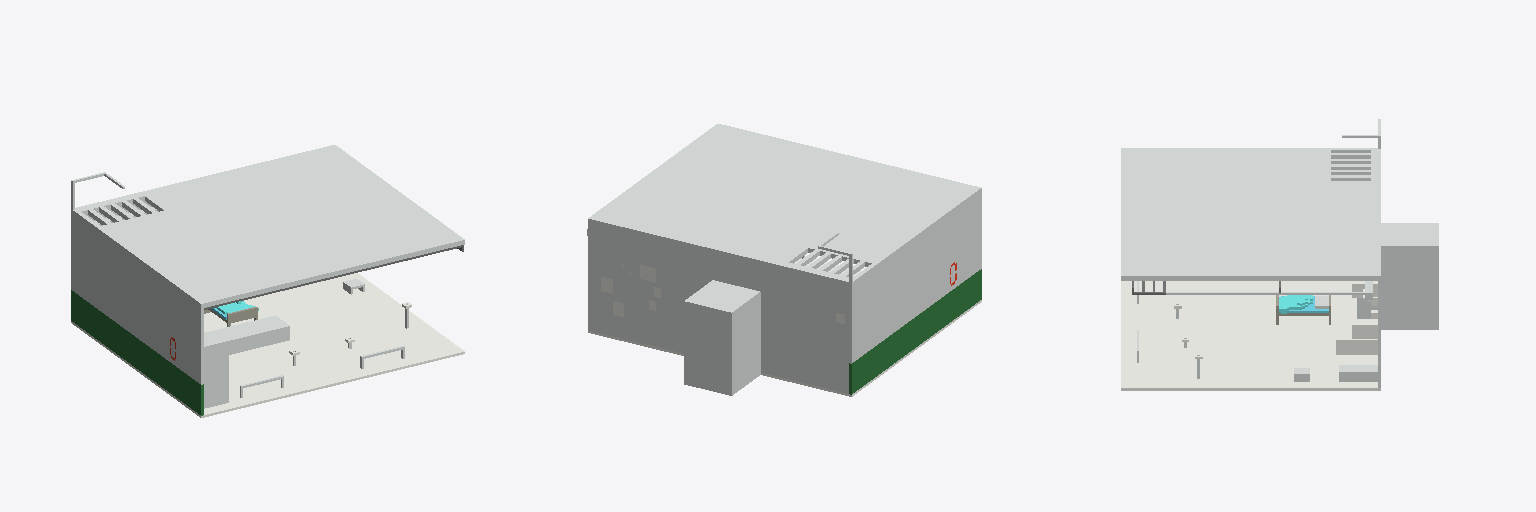
3 renders of one model, left to right at view 1: azimuth 30°, elevation 25°; view 2: azimuth 150°, elevation 25°; view 3: azimuth 270°, elevation 25°, orthographic.
Parts seen in each view (by area): view 1: object 1; view 2: object 1; view 3: object 1.
Part boxes in pixels (bbox=[...]): object 1: bbox=[71, 145, 464, 417]; object 1: bbox=[587, 124, 981, 396]; object 1: bbox=[1121, 119, 1438, 390].
Size of the model in its own units: 11.8 by 6 by 12.1.
Materials: 1 (1 with a texture image).